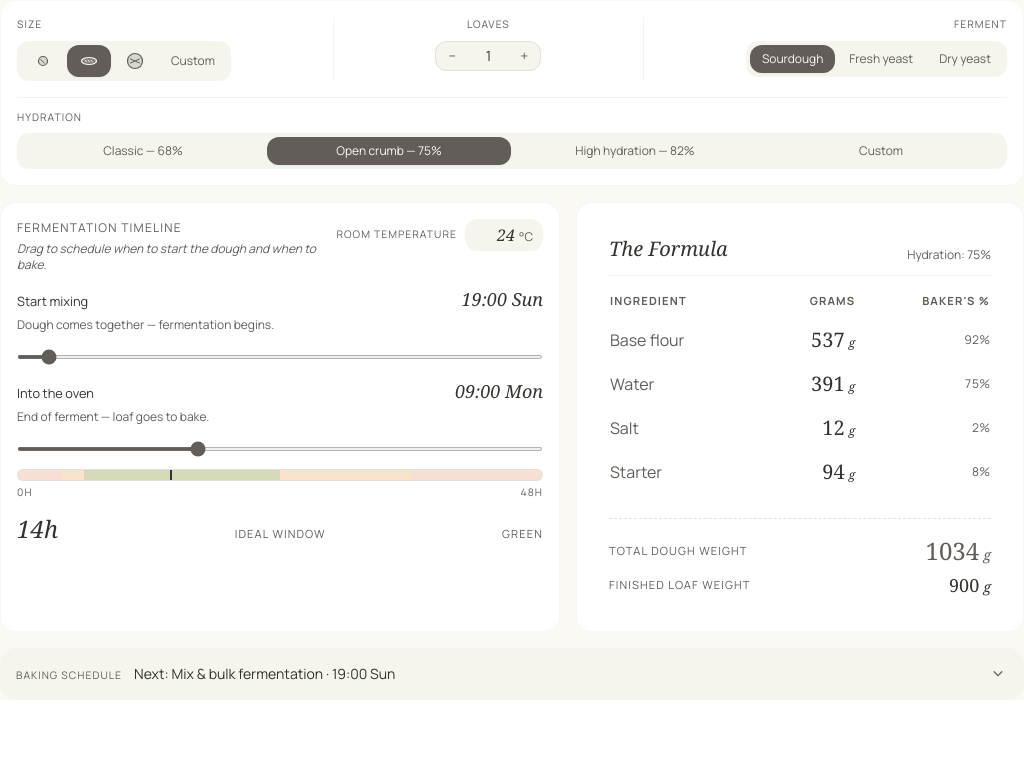
Test: Scenario 08: baking schedule arc preview › starts collapsed and reveals the list when clicked
The image size is (1024, 768).
Click the button "Baking schedule Next: Mix & bulk fermentation · 19:00 Sun" at (69, 675), box [0,648,1023,700]
(page scrolled)
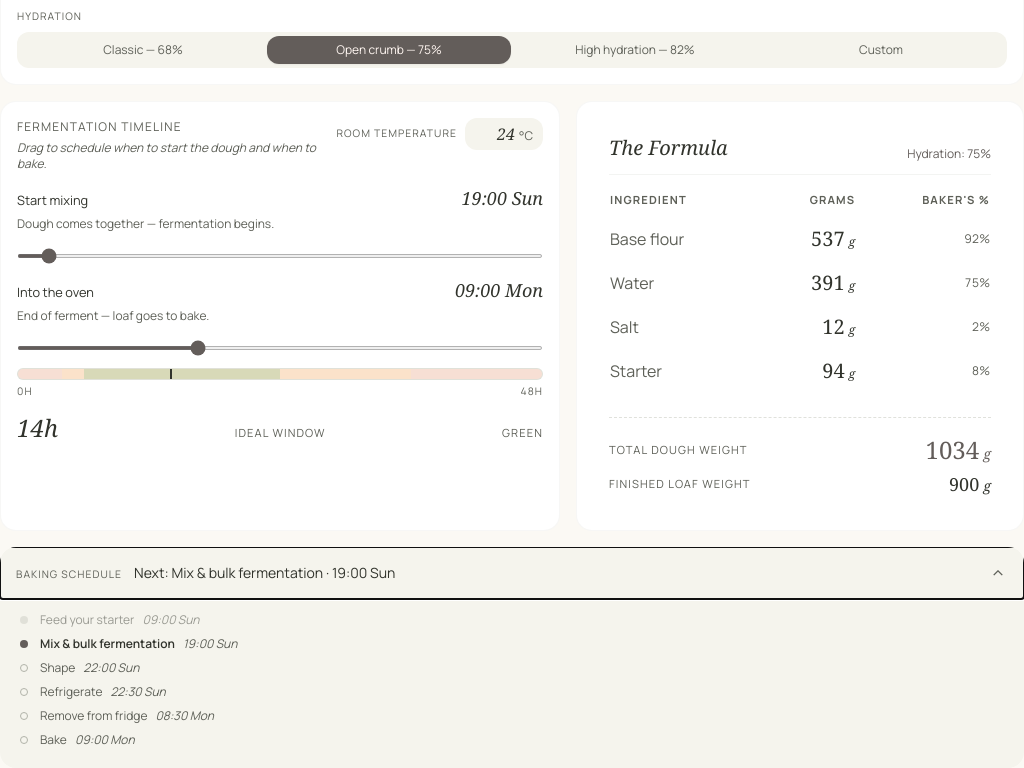
Expected: the button "Baking schedule Next: Mix & bulk fermentation · 19:00 Sun" is expanded, [0,547,1023,599]
Expected: the list is shown, [0,599,1023,767]
